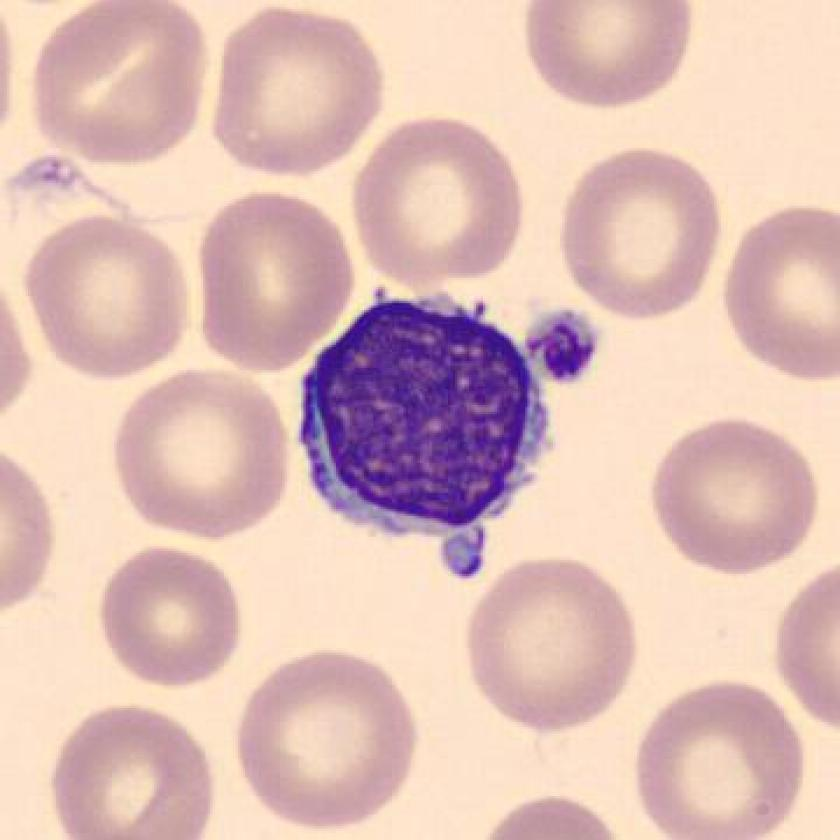lymphocyte: (288, 281, 559, 547)
